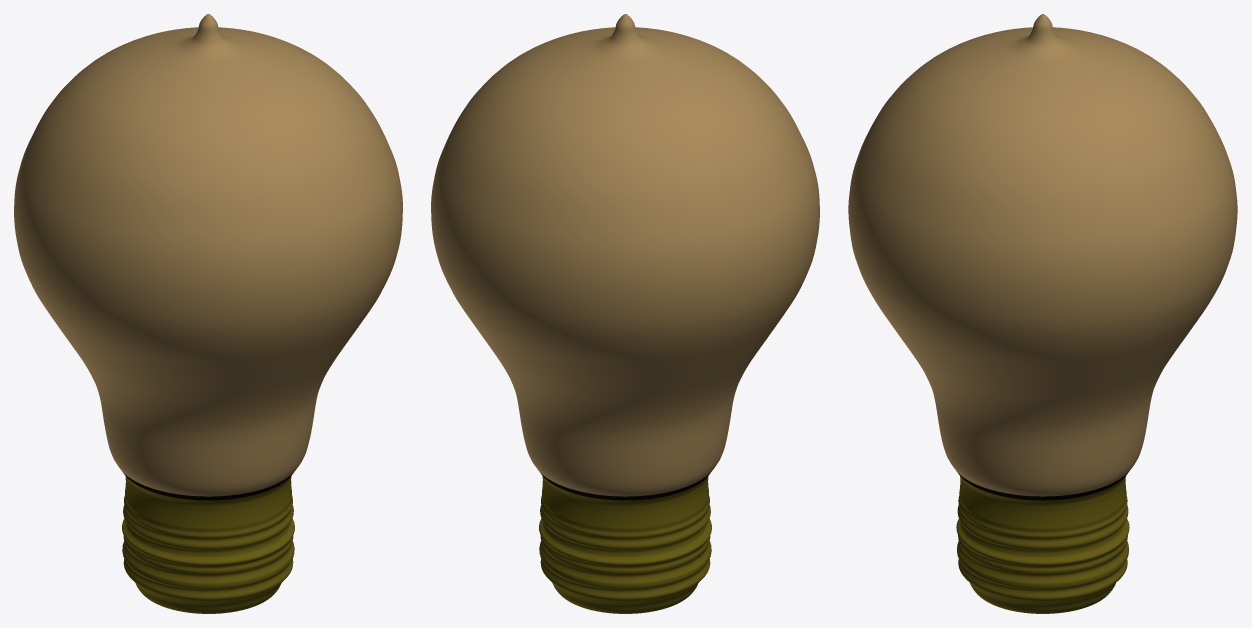
Rendered from Lightbulb Export.fbx.
The picture shows the model from 3 angles, left to right: view 1: azimuth 30°, elevation 25°; view 2: azimuth 150°, elevation 25°; view 3: azimuth 270°, elevation 25°; orthographic projection.
Parts seen in each view (by area): view 1: Line001; view 2: Line001; view 3: Line001.
Boxes of the visible parts, box(x1,y1,x2,y2) form: Line001: box(14, 14, 402, 613); Line001: box(431, 14, 819, 613); Line001: box(848, 14, 1237, 613).
Bounding box in the file's own units: 95.99 × 160 × 95.99.
